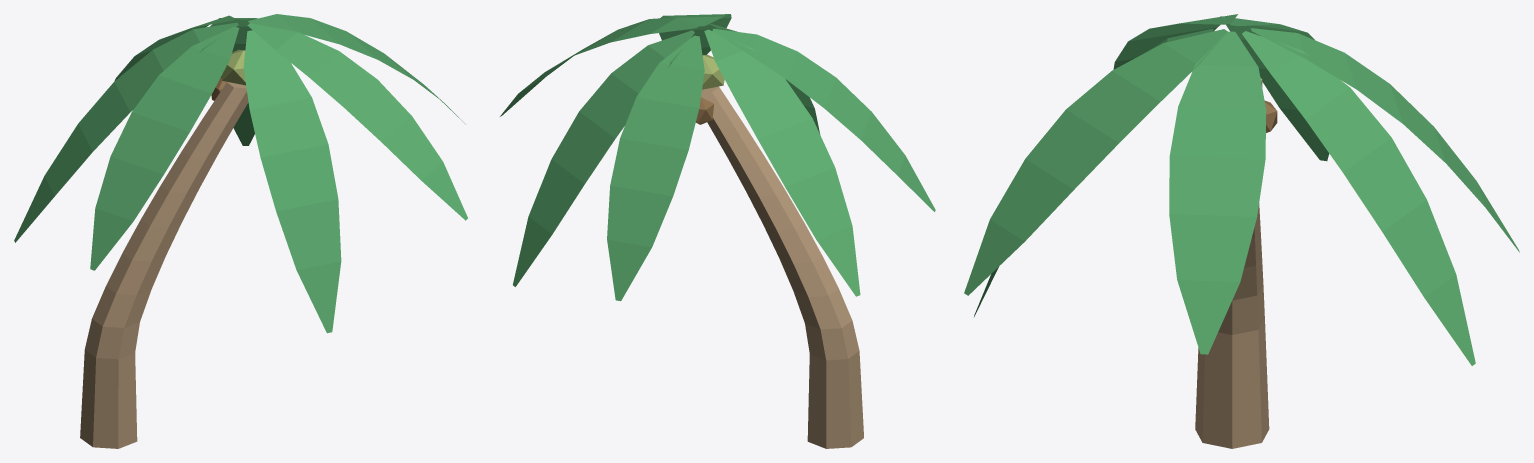
File: 50-Vegetacion_palmera_inclinada.glb
The picture shows the model from 3 angles, left to right: view 1: azimuth 30°, elevation 25°; view 2: azimuth 150°, elevation 25°; view 3: azimuth 270°, elevation 25°; orthographic projection. The views are drawn at different scales.
Visible parts, largest first — view 1: SM_Tronco_M_Hoja_PalmeraIncl, SM_Tronco_M_Tronco_PalmeraIncl, SM_Tronco_M_Corazon_PalmeraIncl; view 2: SM_Tronco_M_Hoja_PalmeraIncl, SM_Tronco_M_Tronco_PalmeraIncl, SM_Tronco_M_Corazon_PalmeraIncl; view 3: SM_Tronco_M_Hoja_PalmeraIncl, SM_Tronco_M_Tronco_PalmeraIncl.
Boxes of the visible parts, x1,y1,x2,y2 form: SM_Tronco_M_Hoja_PalmeraIncl: (14, 14, 467, 333); SM_Tronco_M_Tronco_PalmeraIncl: (80, 82, 248, 448); SM_Tronco_M_Corazon_PalmeraIncl: (221, 49, 245, 85); SM_Tronco_M_Hoja_PalmeraIncl: (500, 14, 935, 301); SM_Tronco_M_Tronco_PalmeraIncl: (701, 86, 863, 448); SM_Tronco_M_Corazon_PalmeraIncl: (702, 54, 724, 89); SM_Tronco_M_Hoja_PalmeraIncl: (964, 14, 1519, 365); SM_Tronco_M_Tronco_PalmeraIncl: (1195, 203, 1269, 448).
Size of the model in its own units: 7.88 by 7 by 7.23.
